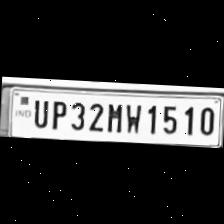0: (194, 104, 215, 136)
1: (141, 100, 159, 134), (178, 102, 196, 136)
2: (84, 98, 104, 132)
3: (66, 97, 86, 131)
5: (156, 100, 180, 136)
M: (102, 99, 124, 133)
P: (46, 96, 68, 130)
U: (28, 96, 48, 128)
W: (123, 100, 143, 134)
